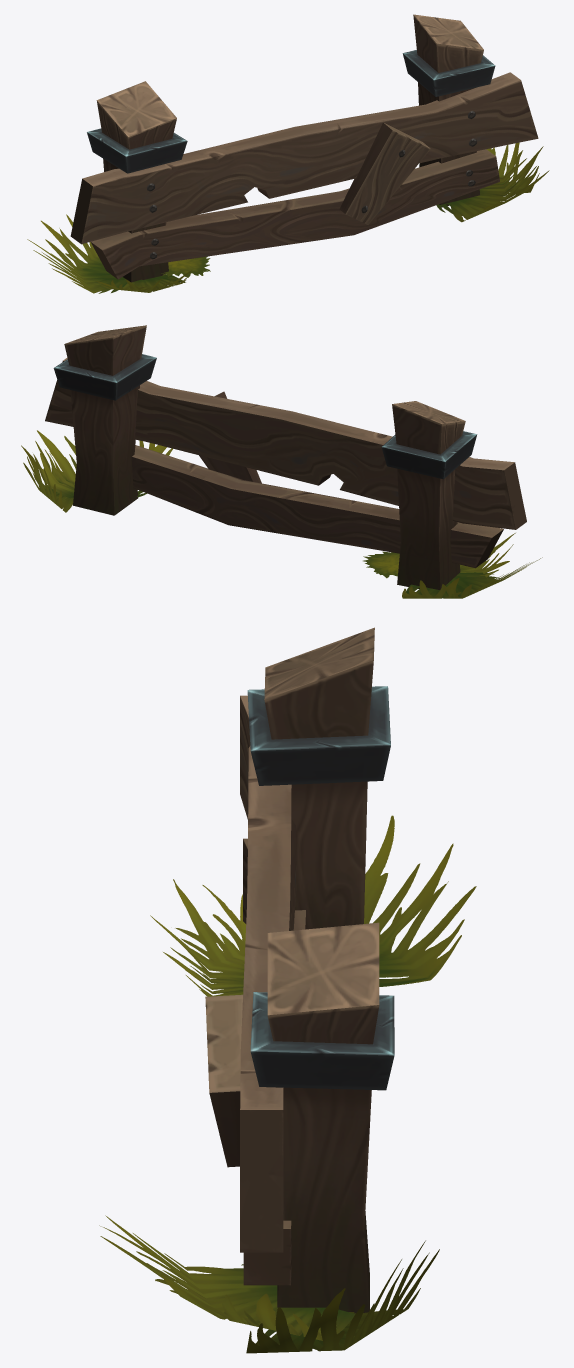
Rendered from fence_01.fbx.
3 renders of one model, top to bottom at view 1: azimuth 30°, elevation 25°; view 2: azimuth 150°, elevation 25°; view 3: azimuth 270°, elevation 25°, orthographic. The views are drawn at different scales.
Parts seen in each view (by area): view 1: fence_01, fence_01_grass; view 2: fence_01, fence_01_grass; view 3: fence_01, fence_01_grass.
Part boxes in pixels (x1,y1,x2,y2): fence_01: (70, 14, 538, 282); fence_01_grass: (27, 142, 549, 293); fence_01: (45, 325, 526, 589); fence_01_grass: (21, 430, 542, 598); fence_01: (205, 627, 394, 1313); fence_01_grass: (99, 815, 476, 1353).
Bounding box in the file's own units: 293 × 95.13 × 111.
